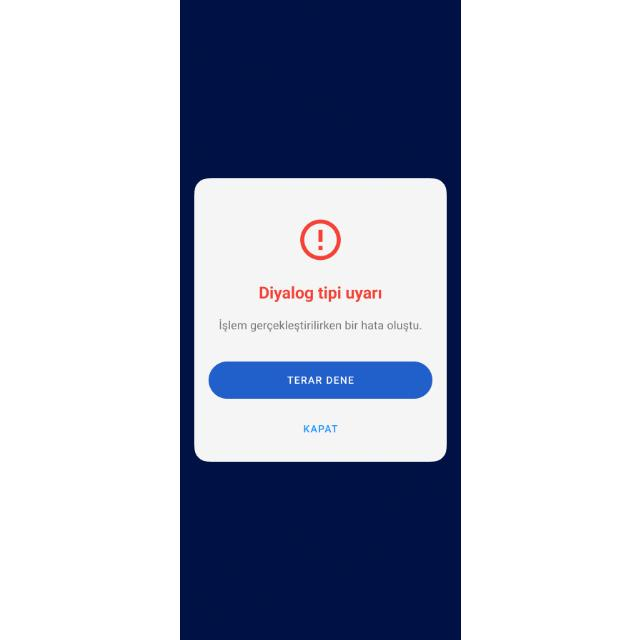QLabel: (211, 316, 423, 336), (255, 283, 383, 303), (282, 371, 358, 387), (292, 421, 348, 437)
VBtn: (208, 359, 432, 398)
VDialog: (194, 179, 446, 463)
VIcon: (296, 216, 346, 262)
